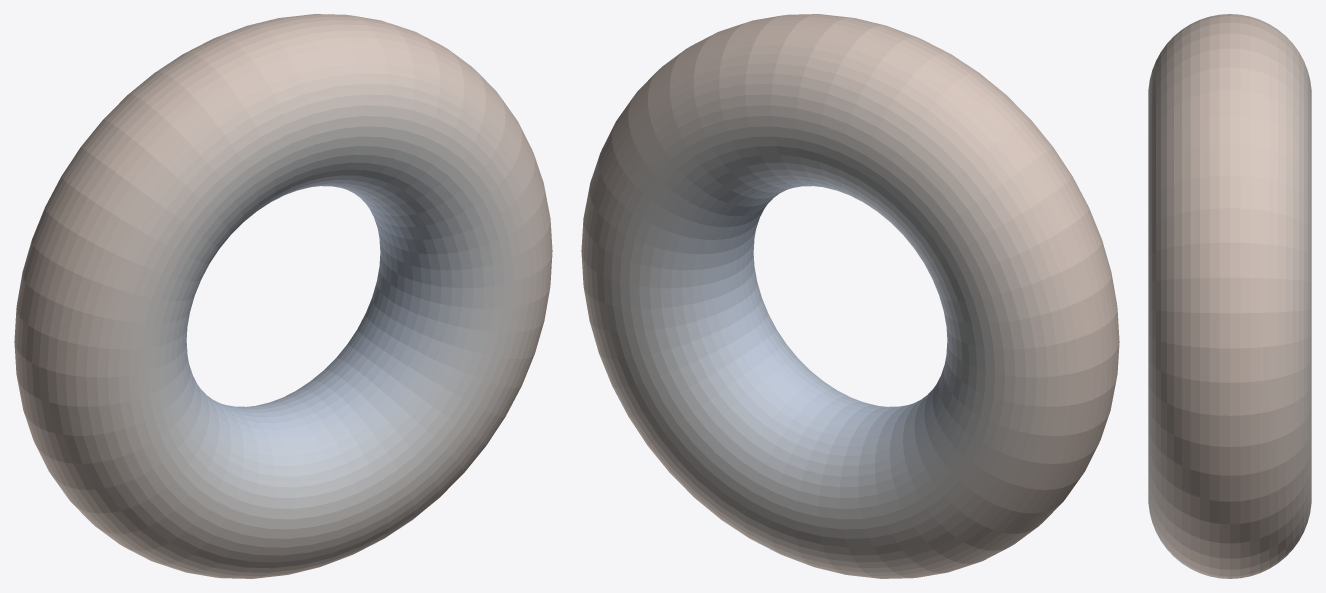
3 renders of one model, left to right at view 1: azimuth 30°, elevation 25°; view 2: azimuth 150°, elevation 25°; view 3: azimuth 270°, elevation 25°, orthographic. The views are drawn at different scales.
Parts seen in each view (by area): view 1: world; view 2: world; view 3: world.
Boxes of the visible parts, x1,y1,x2,y2 form: world: (14, 14, 552, 578); world: (581, 14, 1119, 578); world: (1148, 14, 1311, 578).
Bounding box in the file's own units: 24.4 × 24.35 × 7.05.
